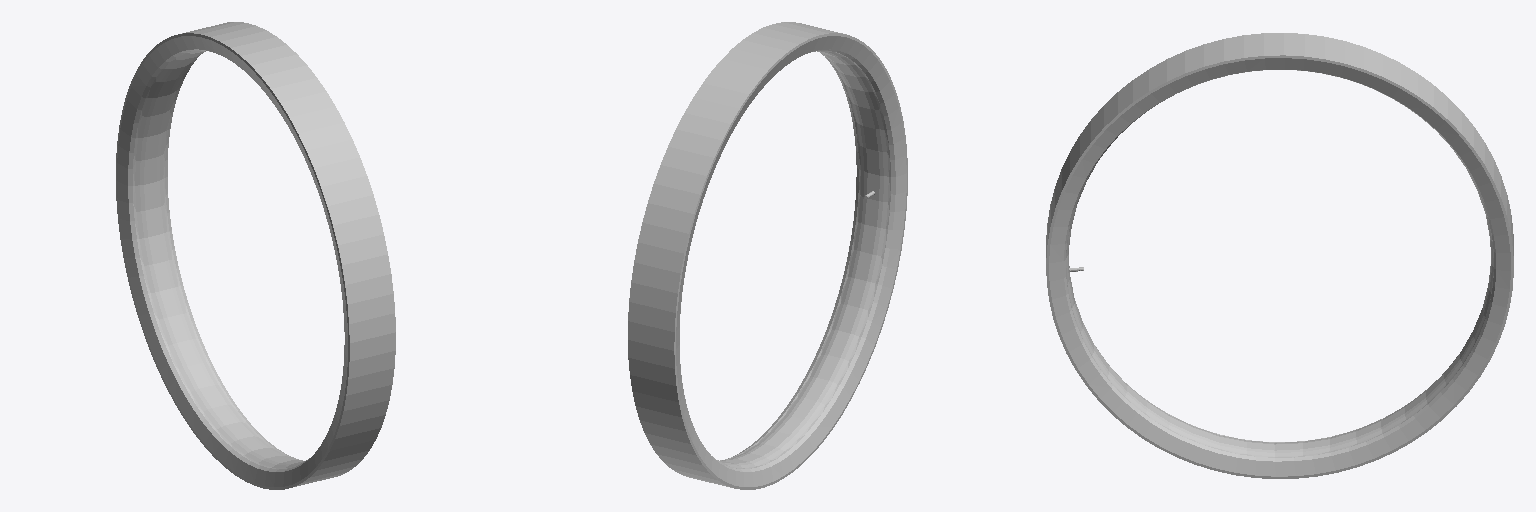
The model's file is New_rim.obj.
3 views of the same model, side by side, from view 1: azimuth 30°, elevation 25°; view 2: azimuth 150°, elevation 25°; view 3: azimuth 270°, elevation 25° (orthographic).
Visible parts, largest first — view 1: Rim_LOD1.002; view 2: Rim_LOD1.002; view 3: Rim_LOD1.002.
Part boxes in pixels (x1,y1,x2,y2): Rim_LOD1.002: (116, 22, 395, 489); Rim_LOD1.002: (628, 22, 907, 489); Rim_LOD1.002: (1046, 33, 1513, 478).
Bounding box in the file's own units: 0.0486 × 0.4184 × 0.4185.